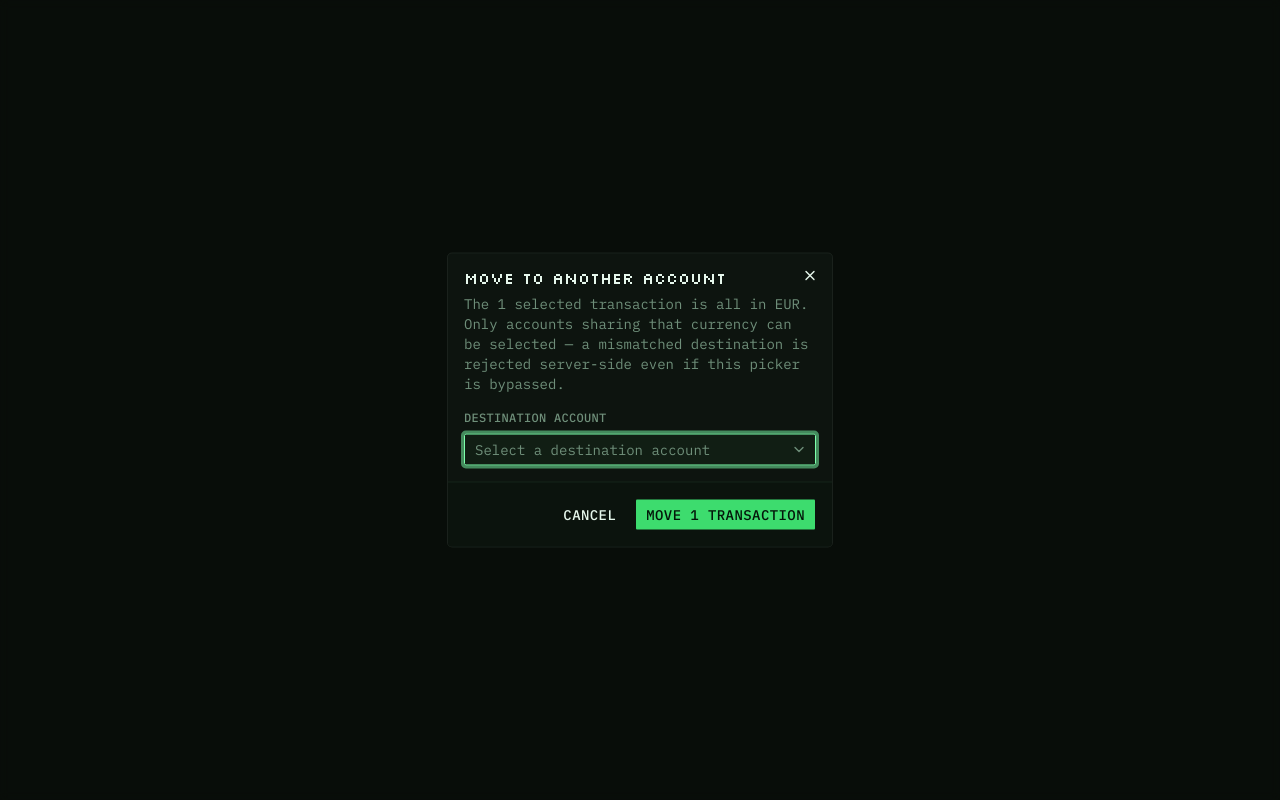
Test: <MoveDialog /> › only lists accounts sharing the selection's currency
This screenshot has width=1280, height=800.
Click the dropdown. click: (640, 450)
box: [464,434,816,466]
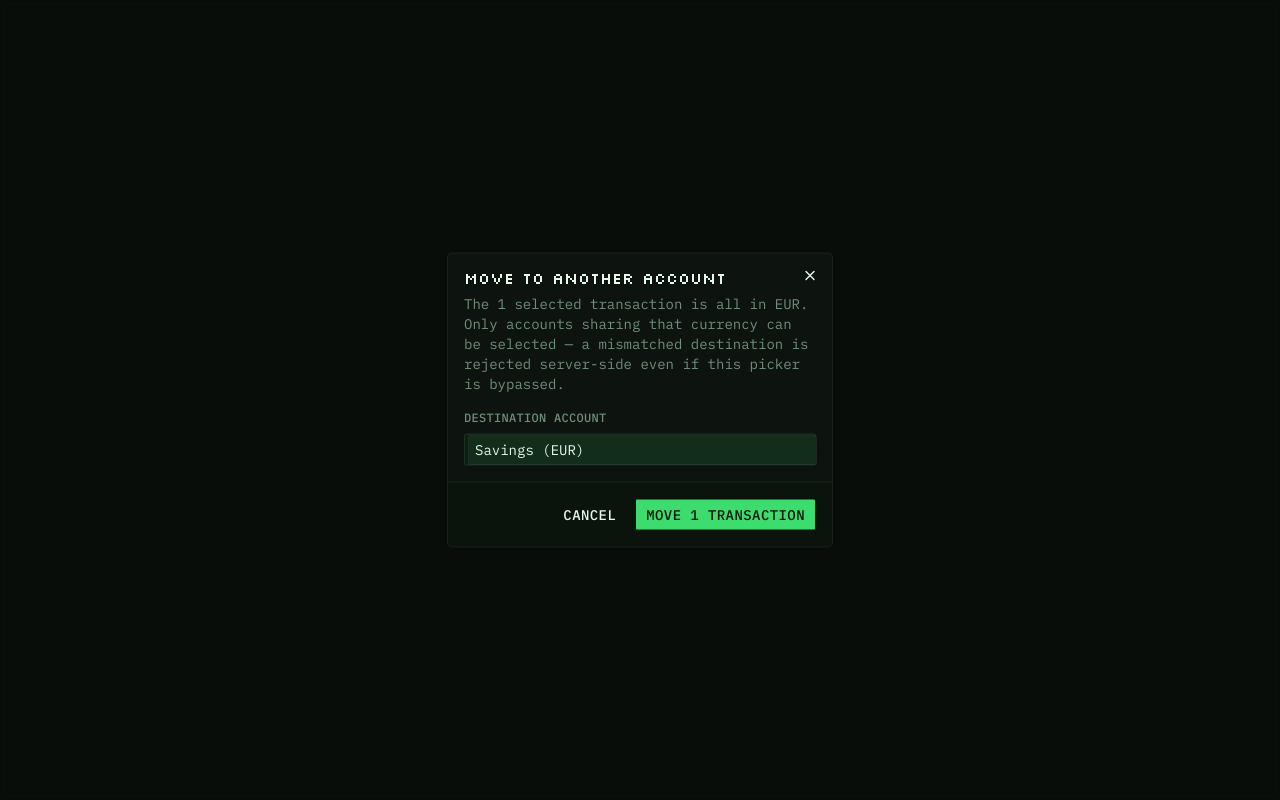
Expected: the option "Savings (EUR)" is shown, [469,436,816,464]
